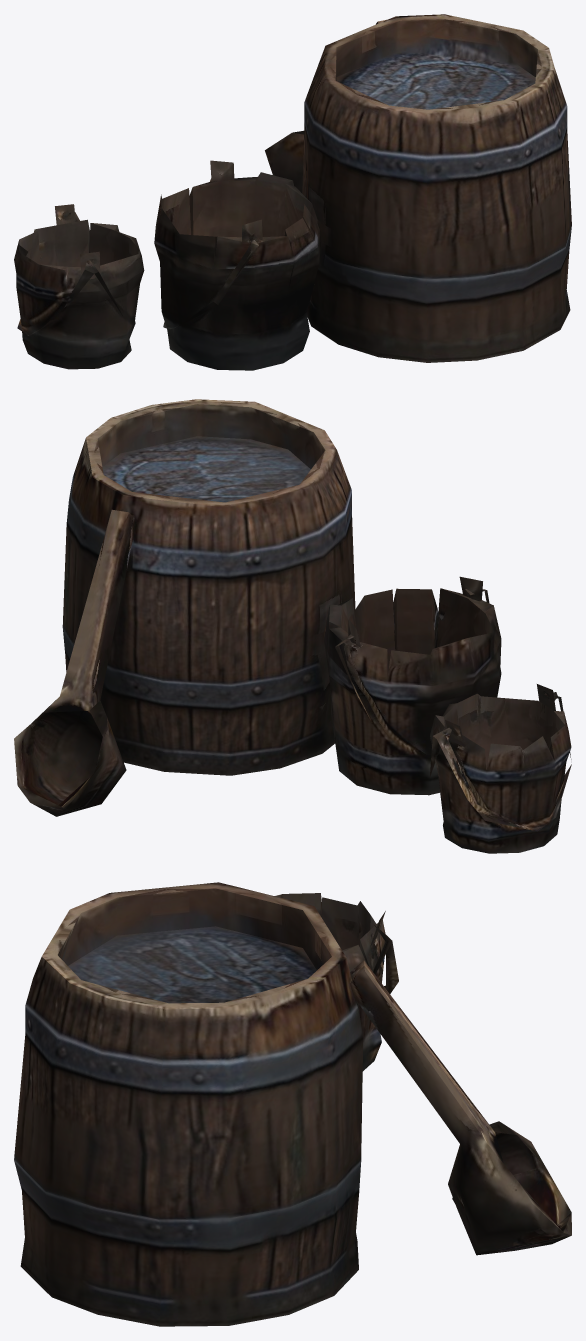
File: legacy_camp-kitchen_water_barrel.glb
The picture shows the model from 3 angles, top to bottom: view 1: azimuth 30°, elevation 25°; view 2: azimuth 150°, elevation 25°; view 3: azimuth 270°, elevation 25°; orthographic projection. The views are drawn at different scales.
Visible parts, largest first — view 1: L_camp-kitchen_water_barrel; view 2: L_camp-kitchen_water_barrel; view 3: L_camp-kitchen_water_barrel.
Boxes of the visible parts, x1,y1,x2,y2 form: L_camp-kitchen_water_barrel: [14, 14, 571, 370]; L_camp-kitchen_water_barrel: [14, 399, 571, 853]; L_camp-kitchen_water_barrel: [14, 882, 571, 1326].
Size of the model in its own units: 2.13 by 1.01 by 1.66.
1 material, 1 textured.
